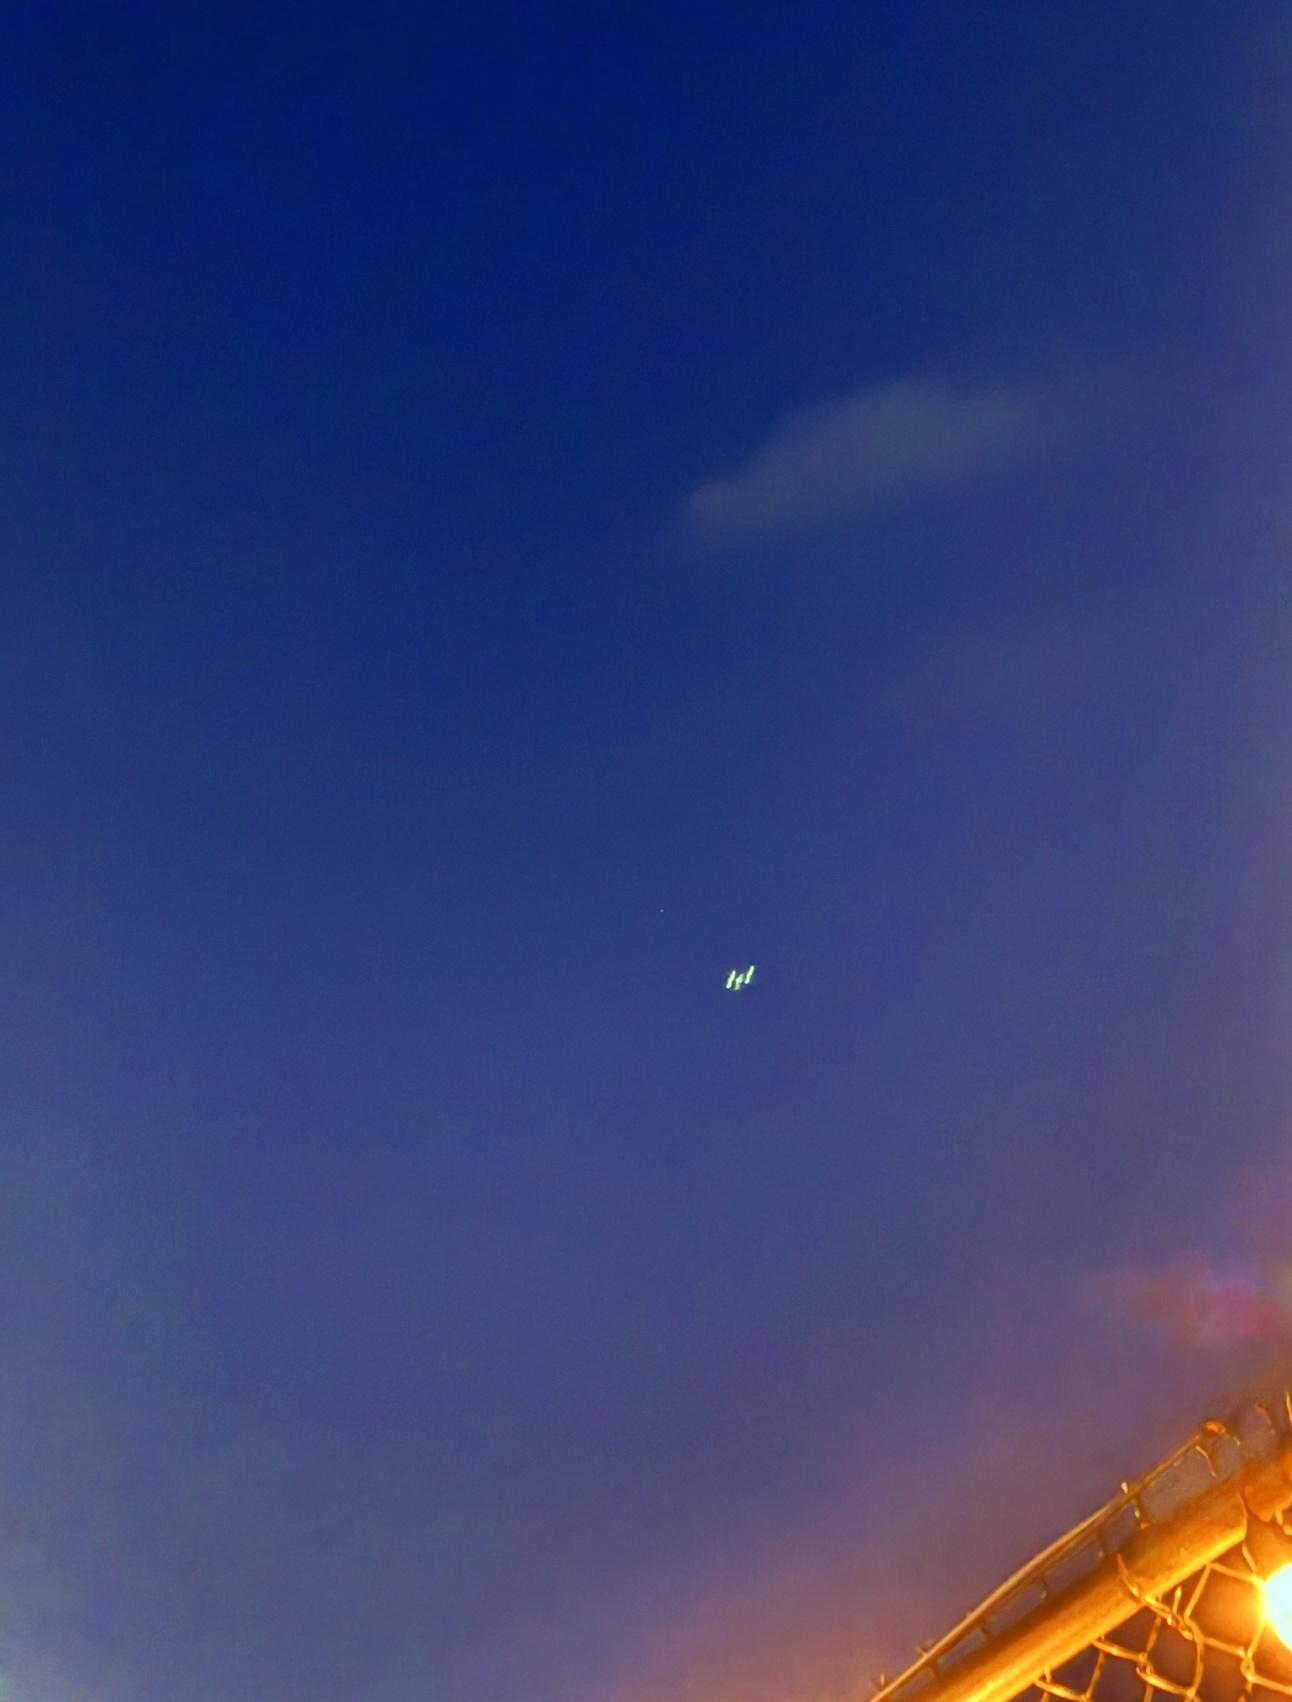Plane: (702, 947, 784, 1011)
